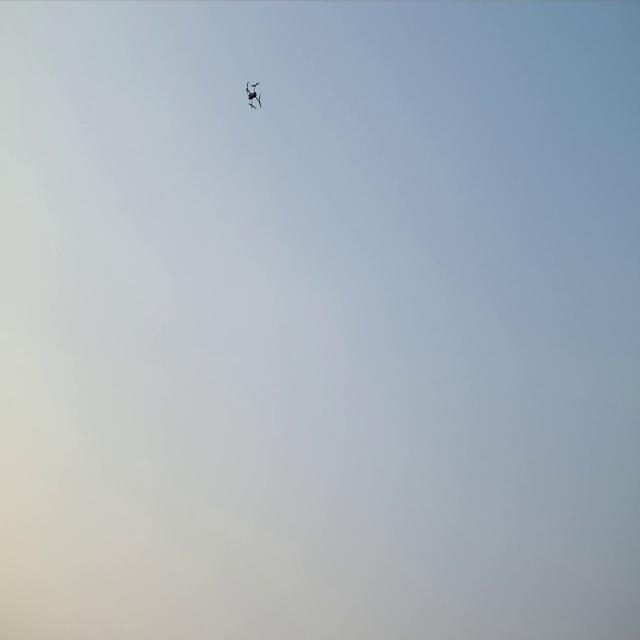UAV: (244, 80, 264, 112)
